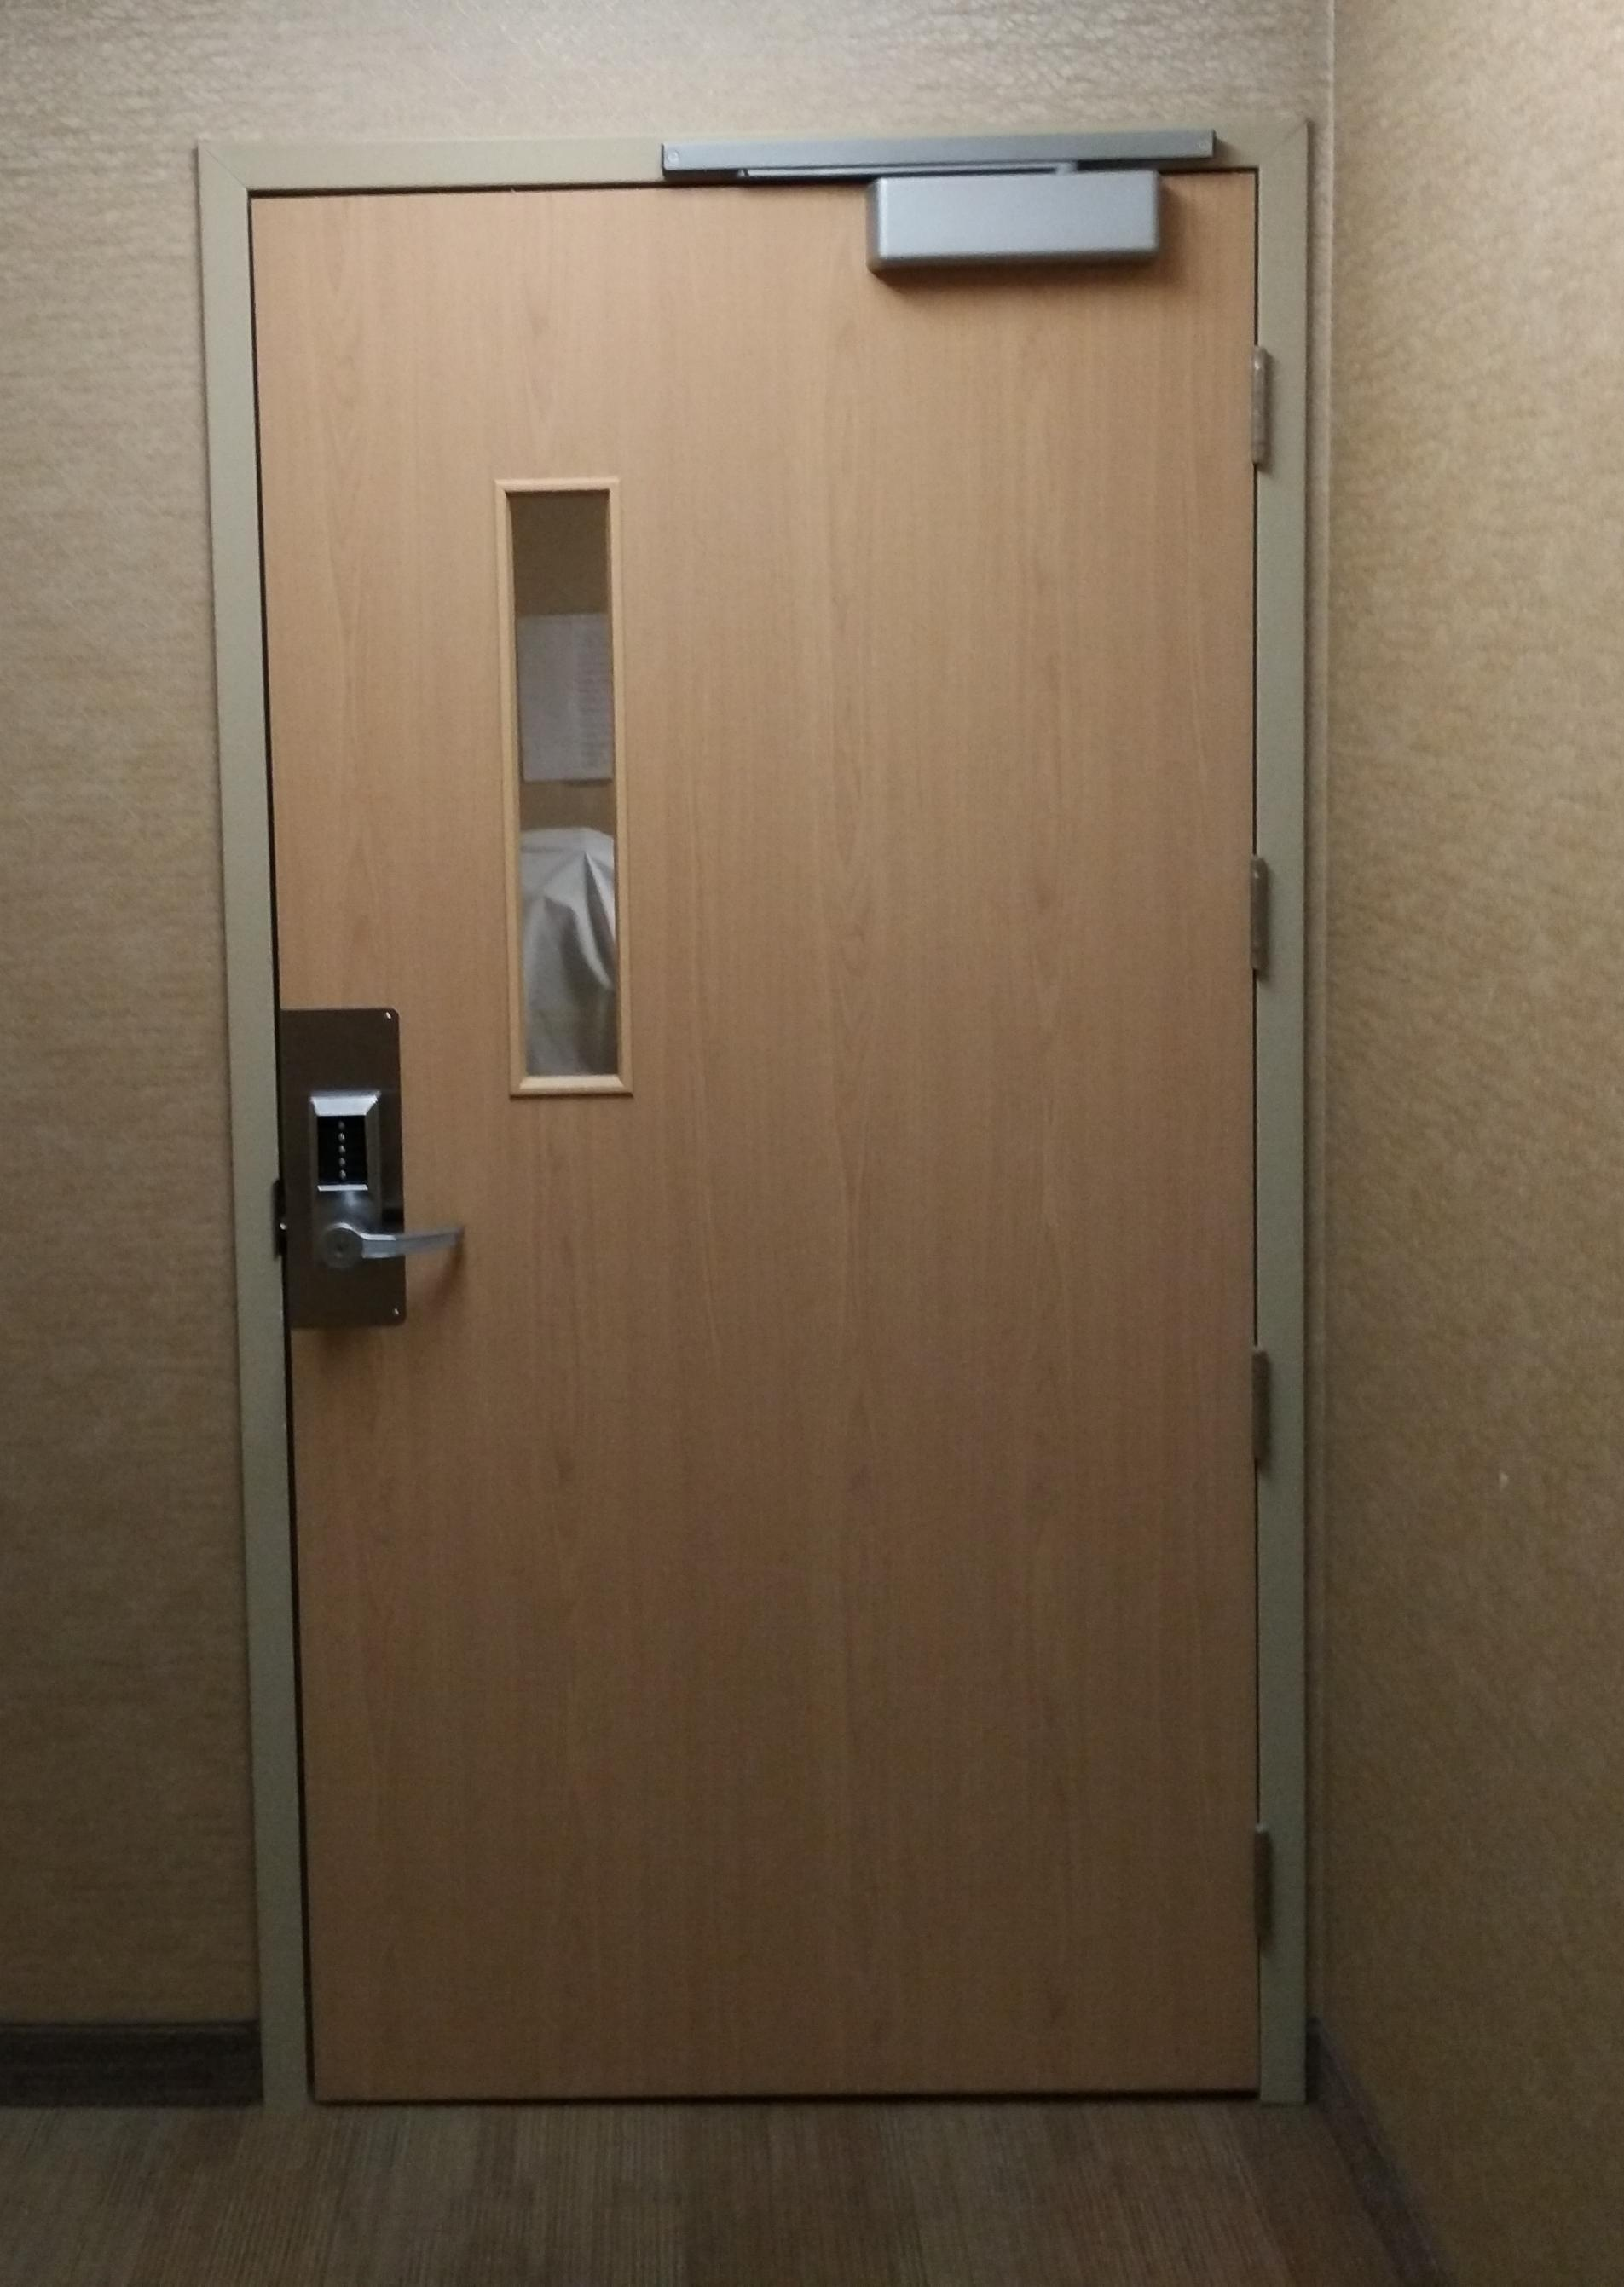door: (228, 172, 1281, 2092)
